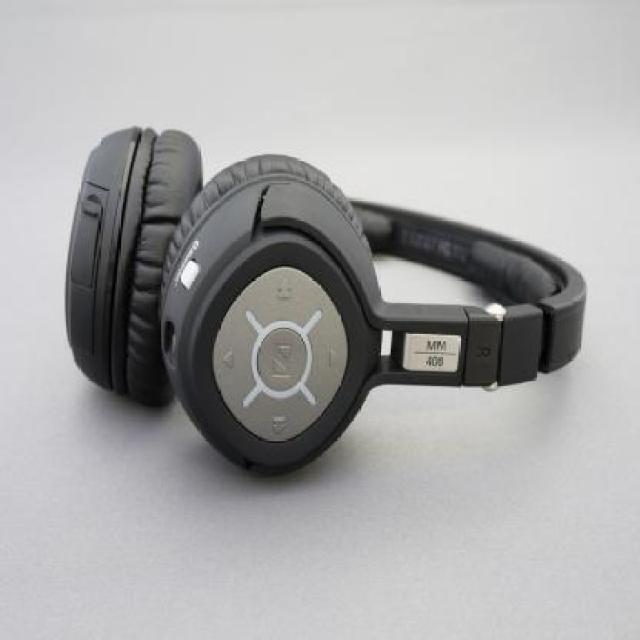earphone: (54, 91, 600, 482)
